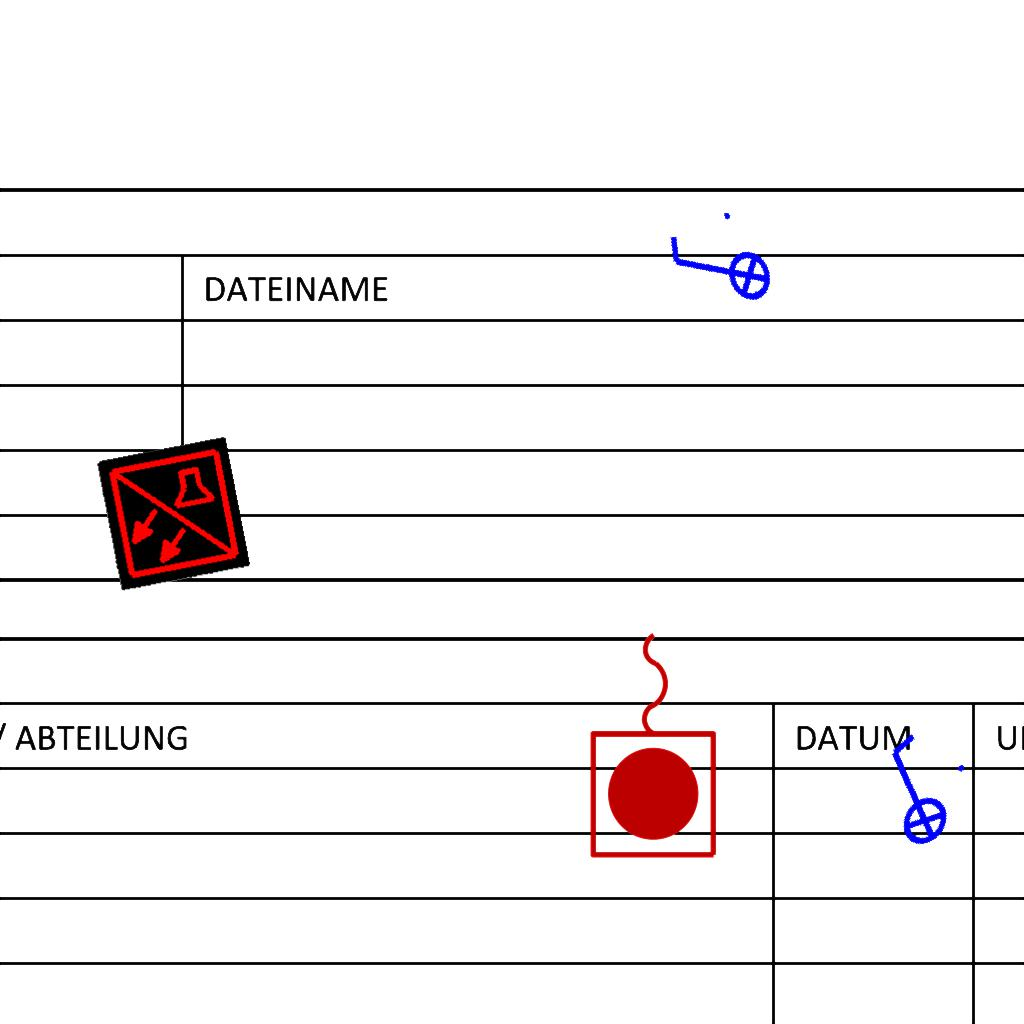Ausschalter_beleuchtet: (841, 718, 985, 866), (654, 199, 784, 339)
OKW_Multisensormelder_(Kombination_optischer_Rauch-Kahlenmonoxid_Waerme-Melder): (95, 436, 251, 592)
Zugtaster: (583, 622, 727, 866)
